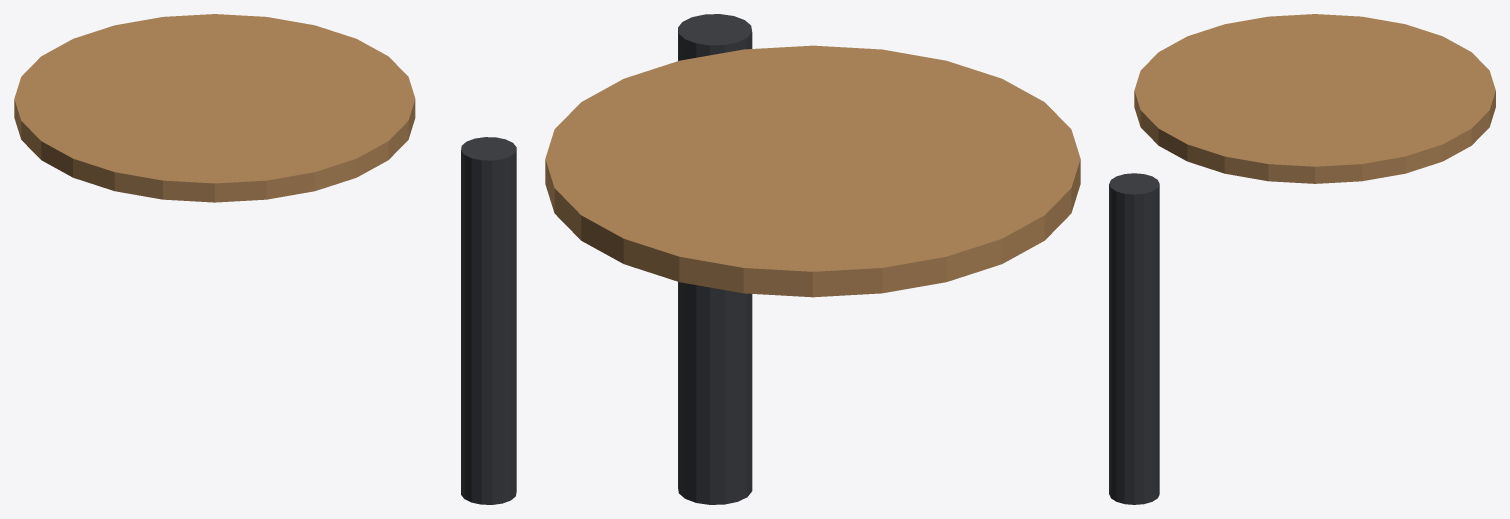
File: table_2top_round_30.glb
3 views of the same model, side by side, from view 1: azimuth 30°, elevation 25°; view 2: azimuth 150°, elevation 25°; view 3: azimuth 270°, elevation 25° (orthographic). The views are drawn at different scales.
Size of the model in its own units: 0.8153 by 0.762 by 0.8153.
